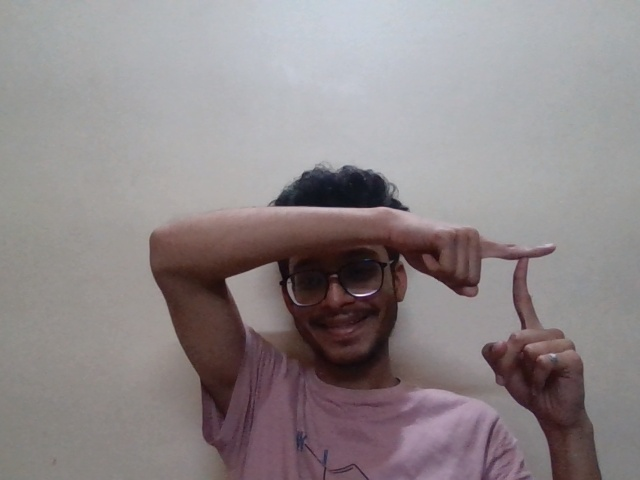T: (470, 226, 588, 392)
